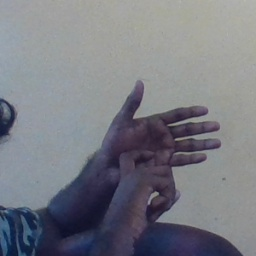R: (88, 77, 228, 227)
